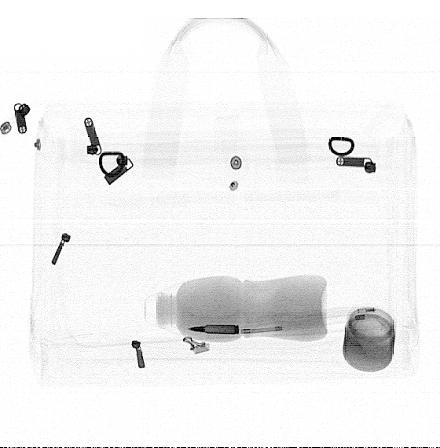Bullet: (188, 324, 239, 335)
